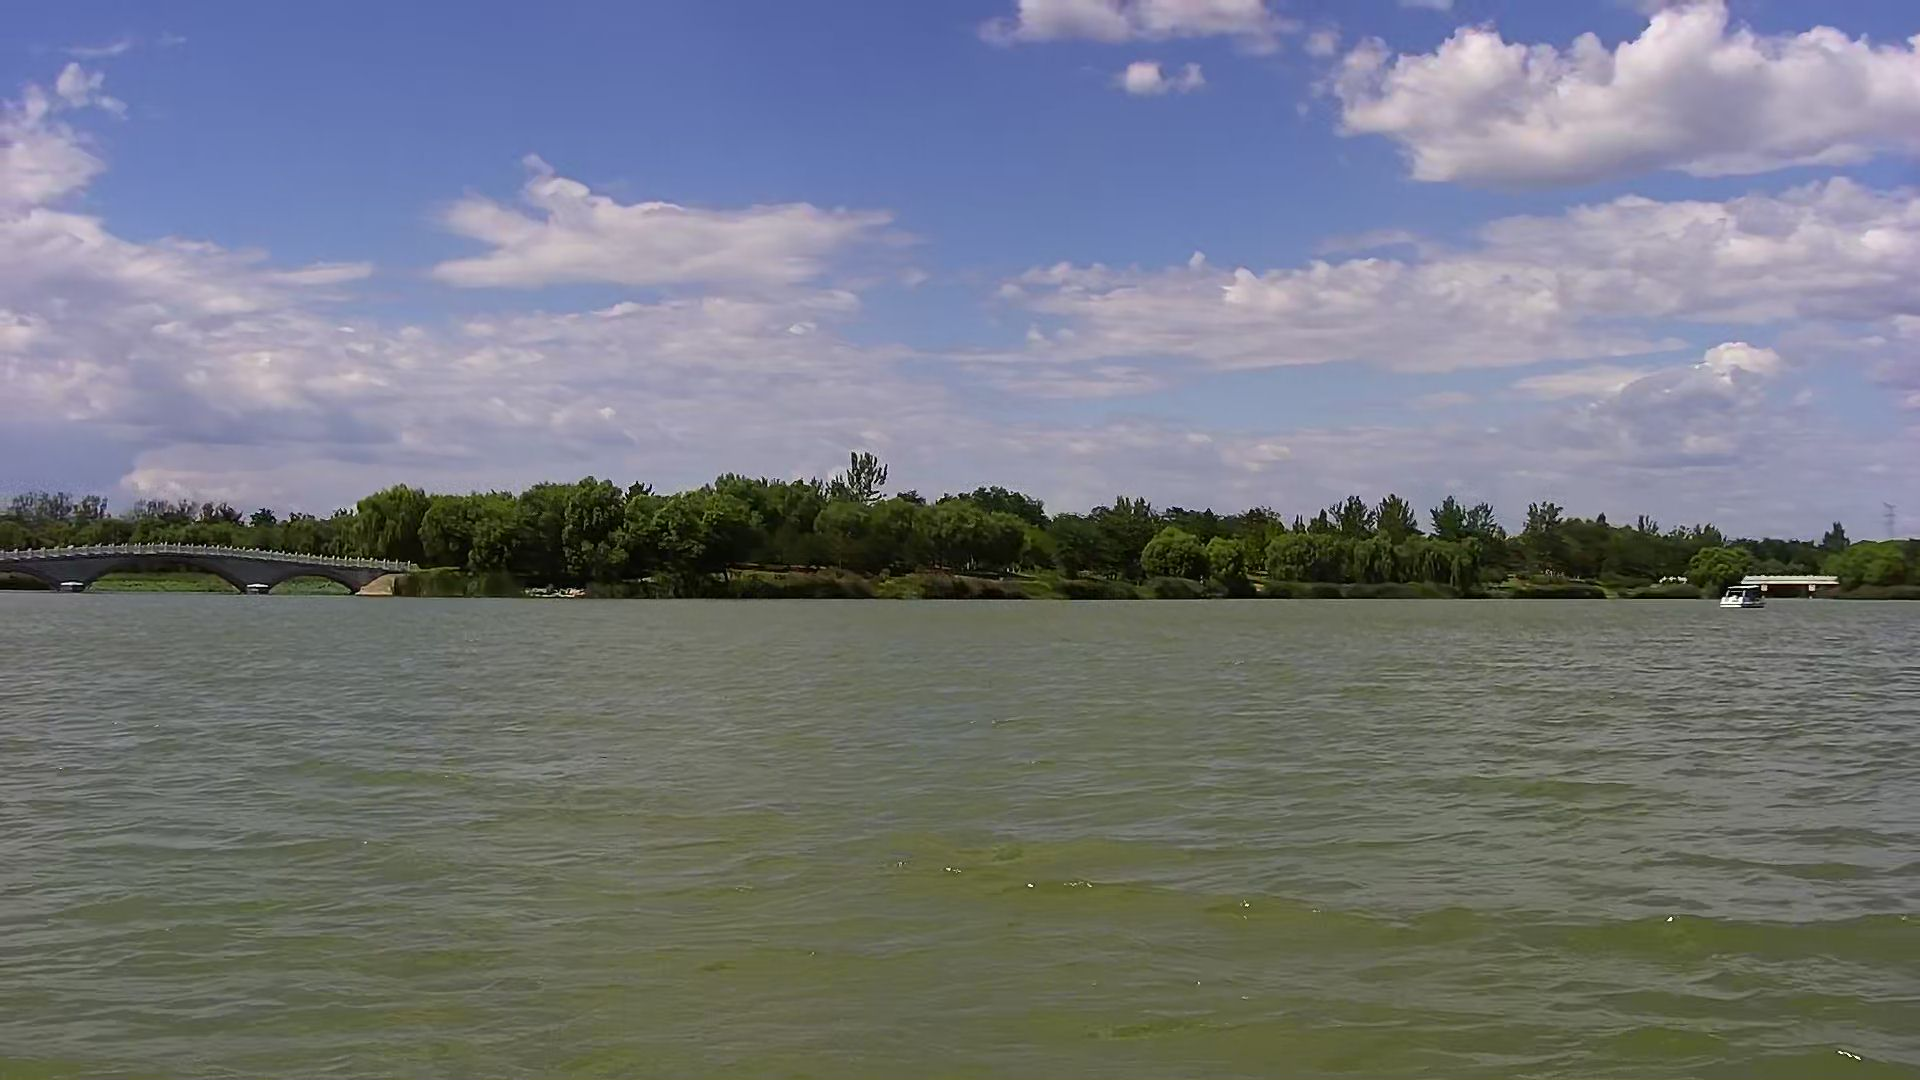boat: (1714, 578, 1779, 612)
bridge: (1, 531, 438, 603)
